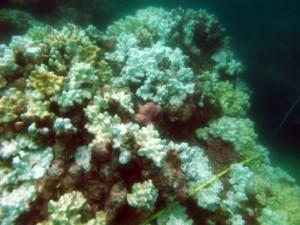bleached_corals: (72, 104, 222, 207), (98, 13, 209, 122)
